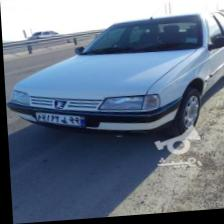plate: (36, 109, 87, 133)
